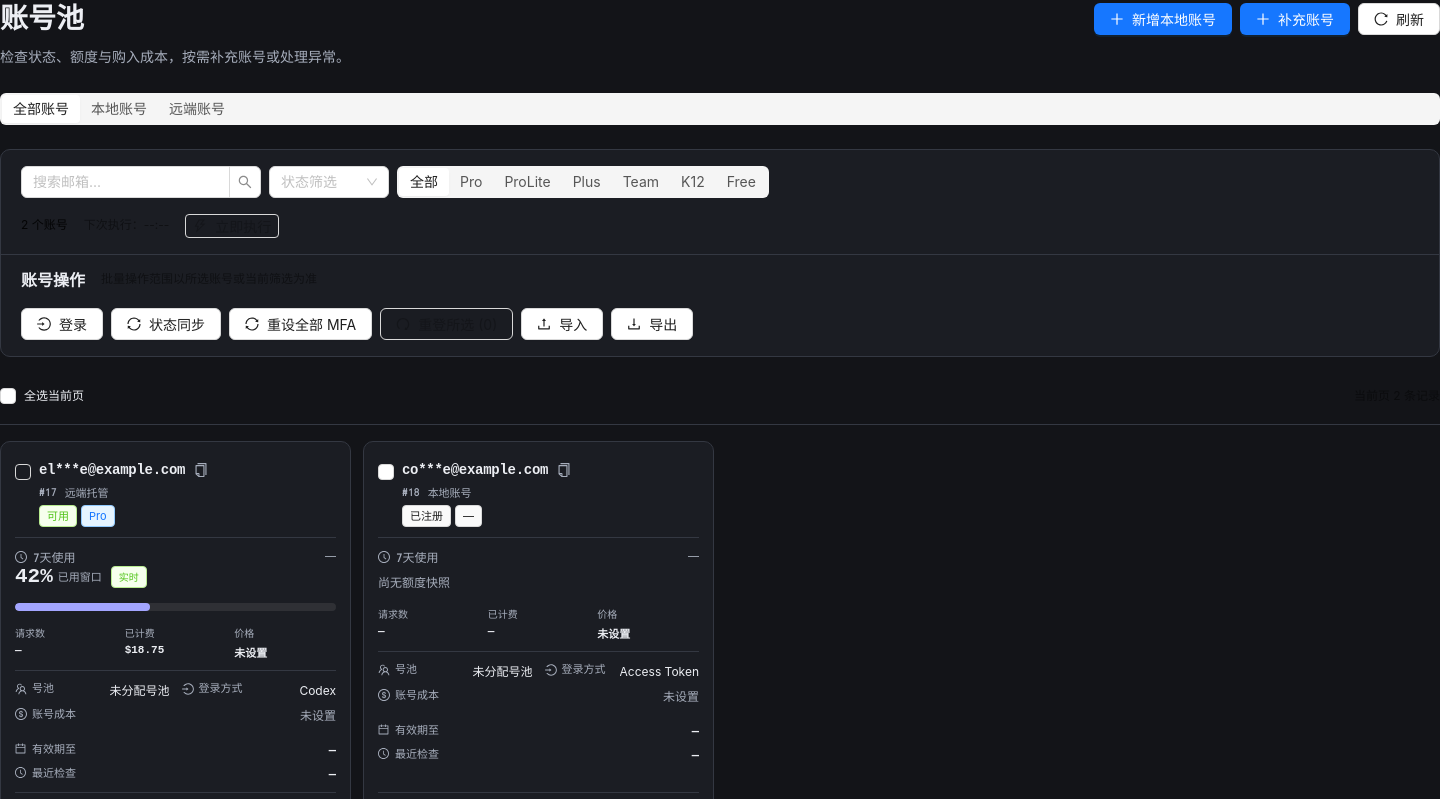
Test: Accounts ChatGPT staged login integration › updates only the saved cost on a managed account and preserves the live quota
This screenshot has width=1440, height=799.
Click the button with aria-label "设置 eligible@example.com 的账号成本": click(54, 714) left=15, top=706, right=336, bottom=730
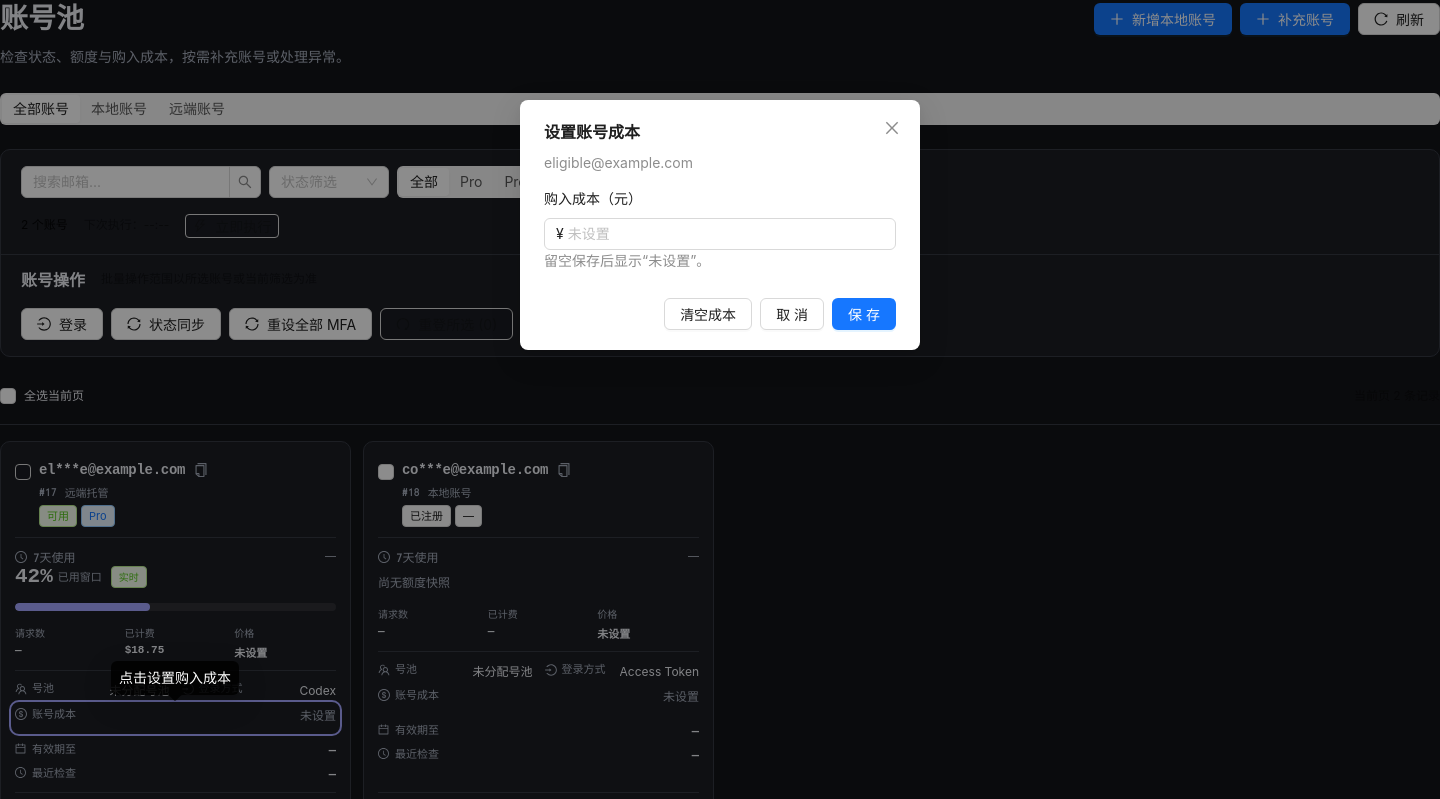
In the number field labelled "购入成本（元）": (731, 234) left=568, top=219, right=895, bottom=249, type "8.50"
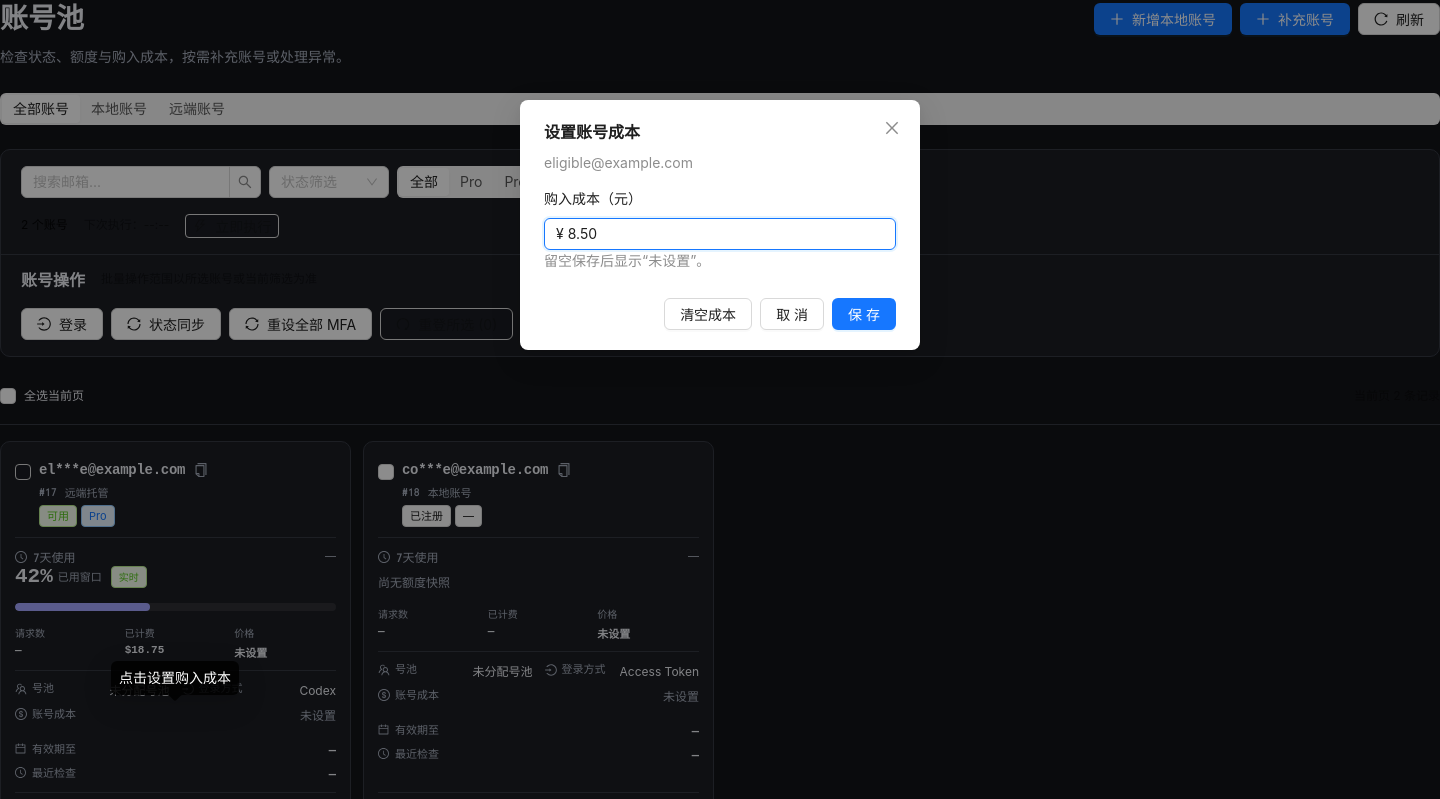
Click the button "保 存": click(864, 314) left=832, top=298, right=896, bottom=330
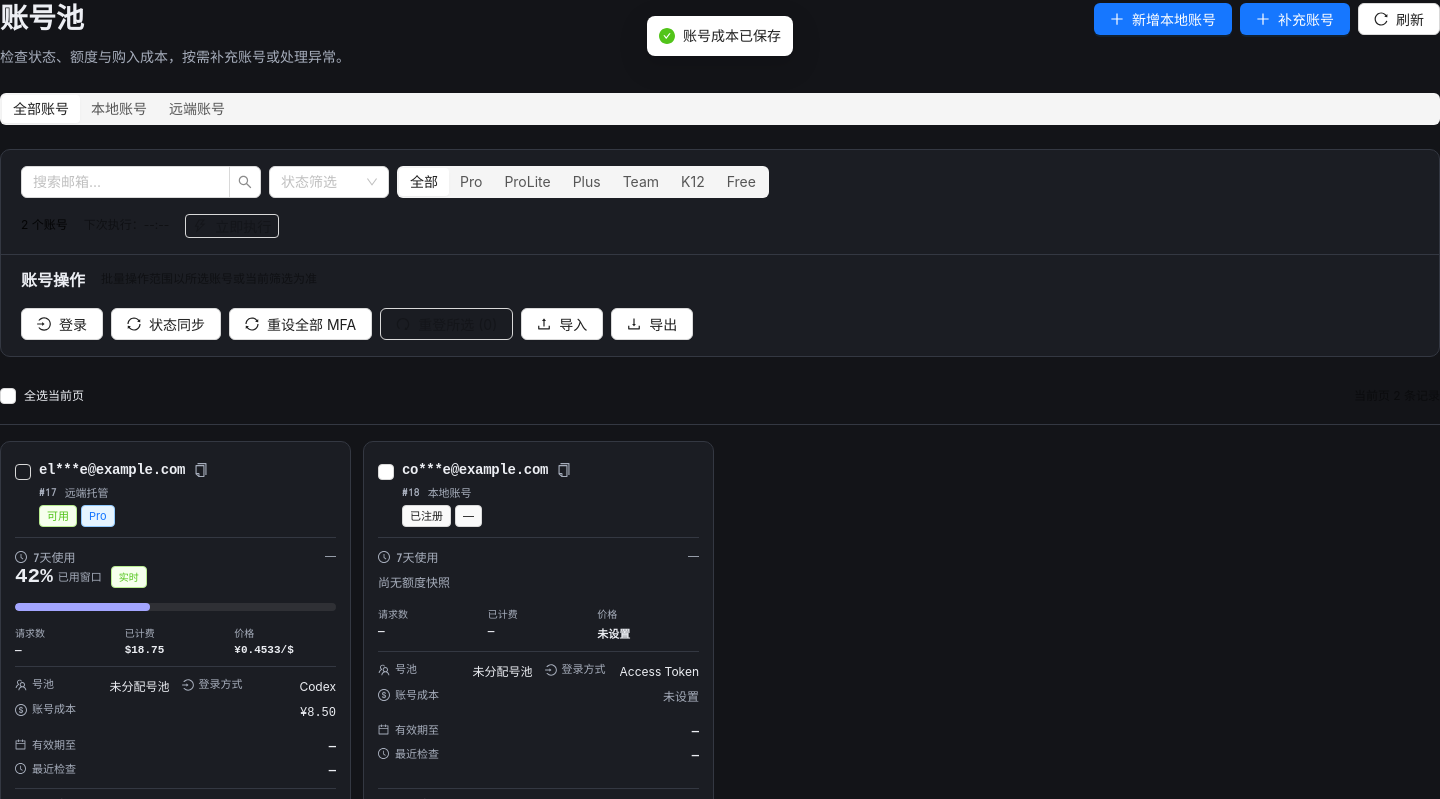
Expected: the text "42%" is shown, left=15, top=566, right=53, bottom=587
Expected: the button with aria-label "设置 eligible@example.com 的账号成本" shows "¥8.50", left=15, top=702, right=336, bottom=726
Expected: the text "¥0.4533/$" is shown, left=234, top=644, right=294, bottom=656
